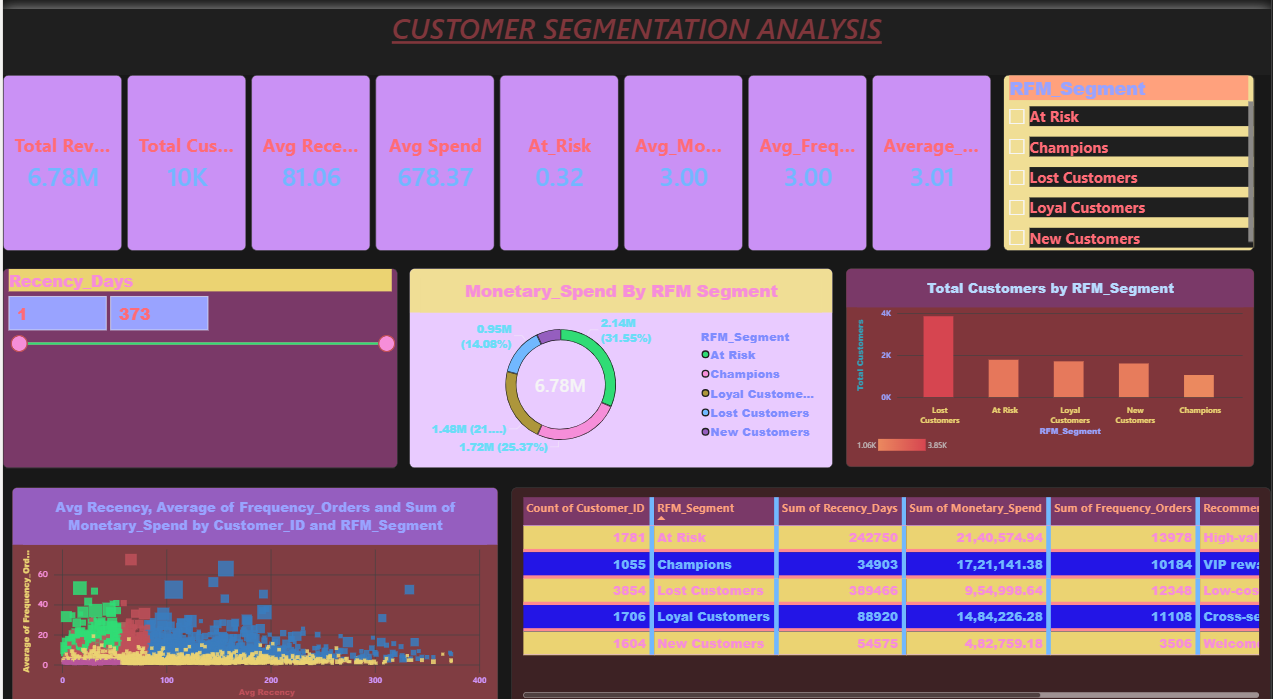

The page's visual inventory and layout, read from the dashboard file:
{"tool":"powerbi","page":{"name":"Page 1","canvas":[1920,1080],"ordinal":0},"visuals":[{"type":"cardVisual","fields":{"Data":["rfm_10k_customer_segments.Total Revenue","rfm_10k_customer_segments.Total Customers","rfm_10k_customer_segments.Avg Recency","rfm_10k_customer_segments.Avg Spend","rfm_10k_customer_segments.At_Risk"]},"box":[0,99.2,1499.5,266.5],"z":0},{"type":"donutChart","title":"Monetary_Spend By RFM Segment","fields":{"Y":["Sum(rfm_10k_customer_segments.Monetary_Spend)"],"Category":["rfm_10k_customer_segments.RFM_Segment"]},"box":[615.1,405.4,598.1,289.1],"z":1},{"type":"clusteredColumnChart","fields":{"Y":["rfm_10k_customer_segments.Total Customers"],"Category":["rfm_10k_customer_segments.RFM_Segment"]},"box":[1247.3,394,618,300.5],"z":2},{"type":"scatterChart","fields":{"Category":["rfm_10k_customer_segments.Customer_ID"],"X":["rfm_10k_customer_segments.Avg Recency"],"Y":["Avg(rfm_10k_customer_segments.Frequency_Orders)"],"Series":["rfm_10k_customer_segments.RFM_Segment"],"Size":["Sum(rfm_10k_customer_segments.Monetary_Spend)"]},"box":[14.2,725.7,737,289.1],"z":3},{"type":"tableEx","fields":{"Values":["CountNonNull(rfm_10k_customer_segments.Customer_ID)","rfm_10k_customer_segments.RFM_Segment","Sum(rfm_10k_customer_segments.Recency_Days)","Sum(rfm_10k_customer_segments.Monetary_Spend)","Sum(rfm_10k_customer_segments.Frequency_Orders)","rfm_10k_customer_segments.Recommended_Action"]},"box":[844.7,725.7,1048.8,289.1],"z":4},{"type":"slicer","fields":{"Values":["rfm_10k_customer_segments.RFM_Segment"]},"box":[1556.2,99.2,337.3,266.5],"z":5},{"type":"slicer","fields":{"Values":["rfm_10k_customer_segments.Recency_Days"]},"box":[28.3,405.4,538.6,289.1],"z":6}]}

Visuals, with their boxes in screenshot pixels (x1, y1, x2, y2), scaled from the page's 1920x1080 canvas onto the 1273x699 screenshot:
cardVisual - rfm_10k_customer_segments.Total Revenue x rfm_10k_customer_segments.Total Customers: [x1=0, y1=64, x2=994, y2=237]
"Monetary_Spend By RFM Segment" donutChart: [x1=408, y1=262, x2=804, y2=449]
clusteredColumnChart - rfm_10k_customer_segments.Total Customers x rfm_10k_customer_segments.RFM_Segment: [x1=827, y1=255, x2=1237, y2=449]
scatterChart - rfm_10k_customer_segments.Customer_ID x rfm_10k_customer_segments.Avg Recency: [x1=9, y1=470, x2=498, y2=657]
tableEx - CountNonNull(rfm_10k_customer_segments.Customer_ID) x rfm_10k_customer_segments.RFM_Segment: [x1=560, y1=470, x2=1255, y2=657]
slicer - rfm_10k_customer_segments.RFM_Segment: [x1=1032, y1=64, x2=1255, y2=237]
slicer - rfm_10k_customer_segments.Recency_Days: [x1=19, y1=262, x2=376, y2=449]
